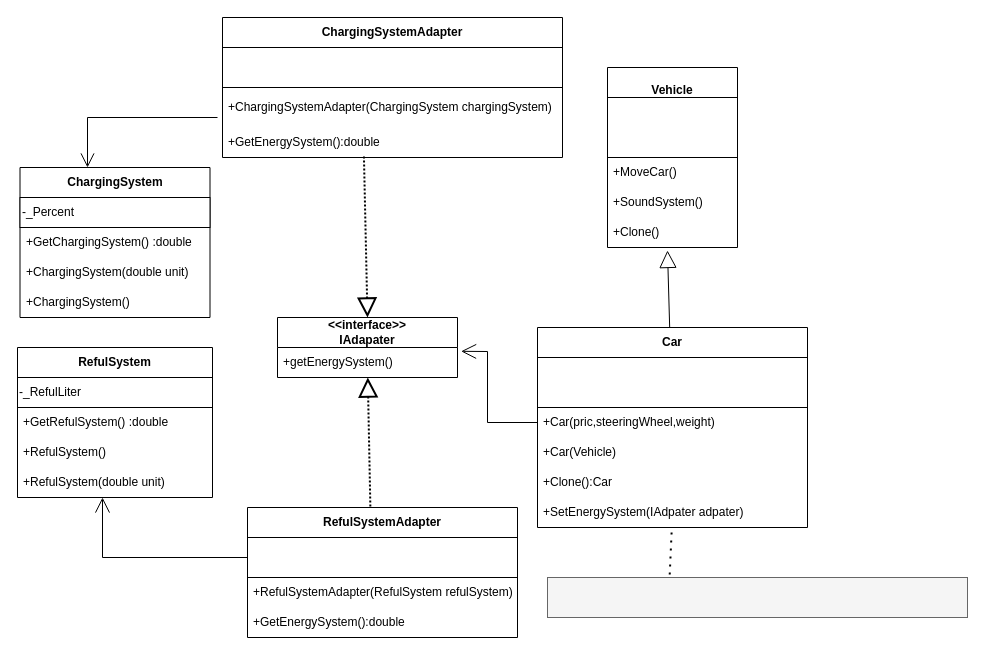
This 985x655 diagram has some shape labels left out. The shapes that lost their labels are listed below. From the top down, each one's centre as x and y in pixels, then its label:
[392,67]: -ChargingAdapeter:ChargingSystem
[672,127]: -whlee -body -color -mirror
[672,382]: -price -steeringwheel -weight
[382,557]: - _refulSystem:RegulSystem
[757,597]: var result = Math.Abs((this.Weight + adpater.GetEnergySystem()) / 100);
